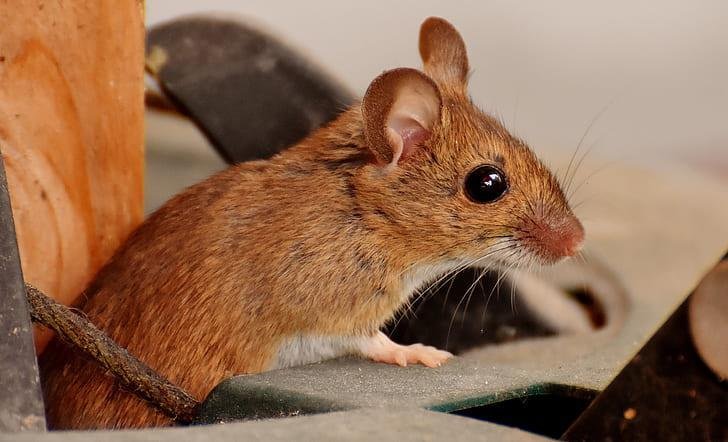rat: (44, 16, 586, 430)
